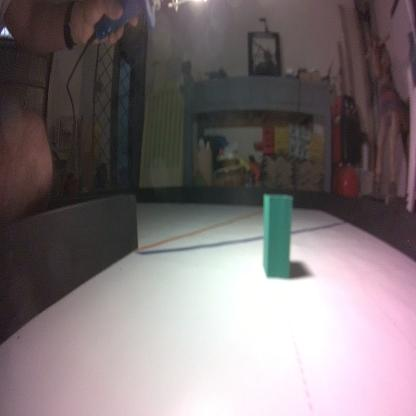green: (260, 192, 295, 280)
